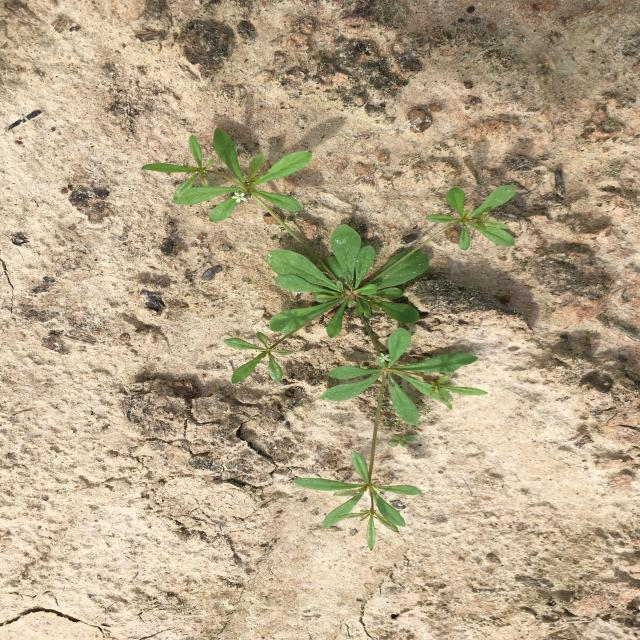Carpetweed: (141, 127, 516, 550)
